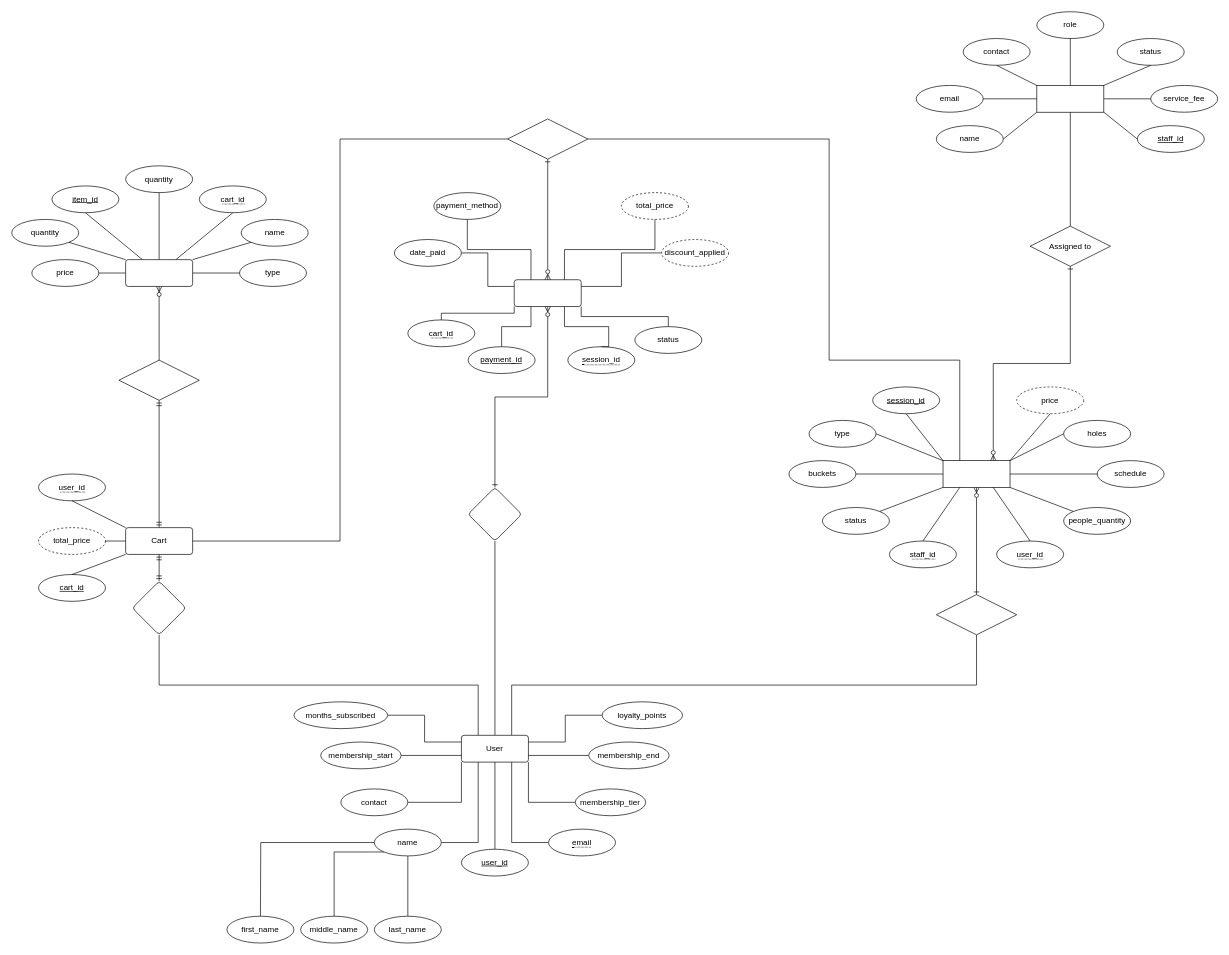
Some shapes in this 1229 by 955 pixel diagram are drawn without their labels. Here are the shapes that lost their labels. From the top down, the centre of each, then its label:
At point (1070, 98): "Staff".
At point (547, 138): "Is paid through".
At point (159, 272): "items".
At point (547, 293): "Payment".
At point (158, 379): "Holds".
At point (976, 473): "Session".
At point (494, 514): "Pays".
At point (159, 608): "Owns".
At point (976, 614): "Books".
